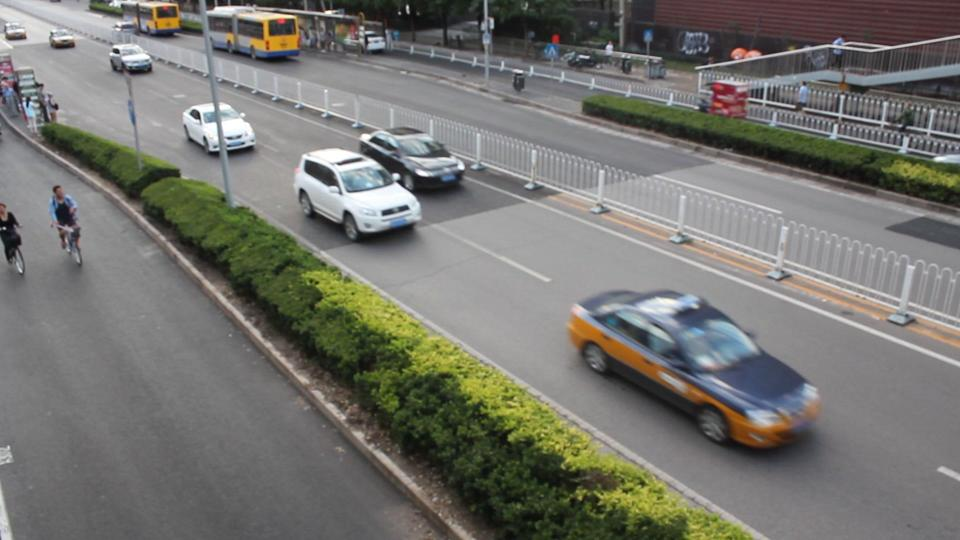bus: (205, 5, 300, 58), (119, 1, 177, 36)
car: (565, 288, 820, 451), (356, 127, 465, 192), (183, 103, 256, 152), (48, 28, 75, 47), (3, 21, 26, 40)
suv: (295, 148, 421, 239), (107, 43, 155, 74)
